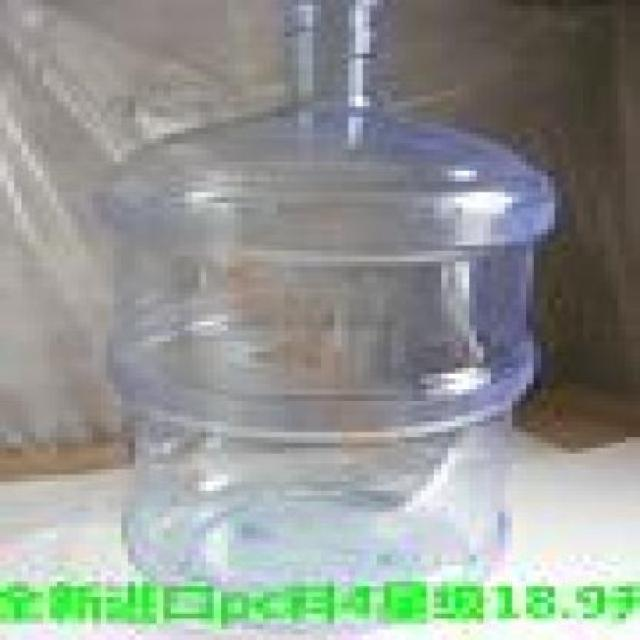coolerbottle: (84, 0, 562, 585)
